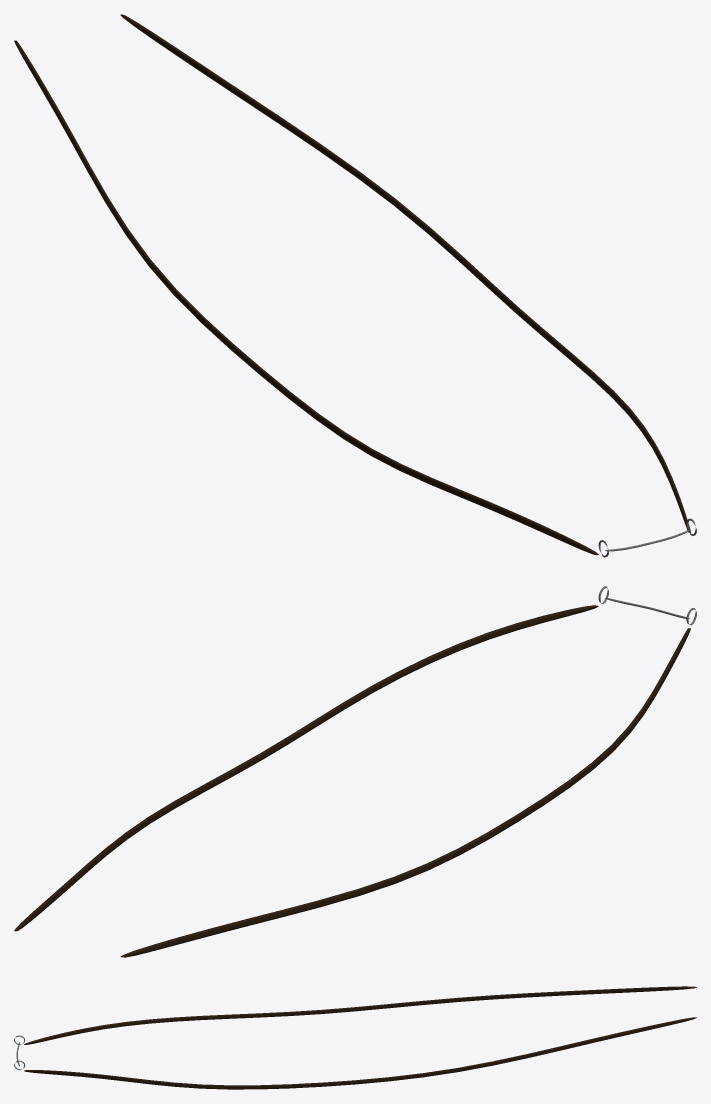
Rendered from frontier_caravan_reins_lod0.glb.
3 renders of one model, top to bottom at view 1: azimuth 30°, elevation 25°; view 2: azimuth 150°, elevation 25°; view 3: azimuth 270°, elevation 25°, orthographic. The views are drawn at different scales.
Visible parts, largest first — view 1: frontier_caravan_reins_lod0; view 2: frontier_caravan_reins_lod0; view 3: frontier_caravan_reins_lod0.
Part boxes in pixels (x1,y1,x2,y2): frontier_caravan_reins_lod0: [14, 14, 696, 557]; frontier_caravan_reins_lod0: [14, 586, 696, 957]; frontier_caravan_reins_lod0: [14, 986, 696, 1089].
Bounding box in the file's own units: 1 × 0.3535 × 3.91.
Materials: 1 (1 with a texture image).
